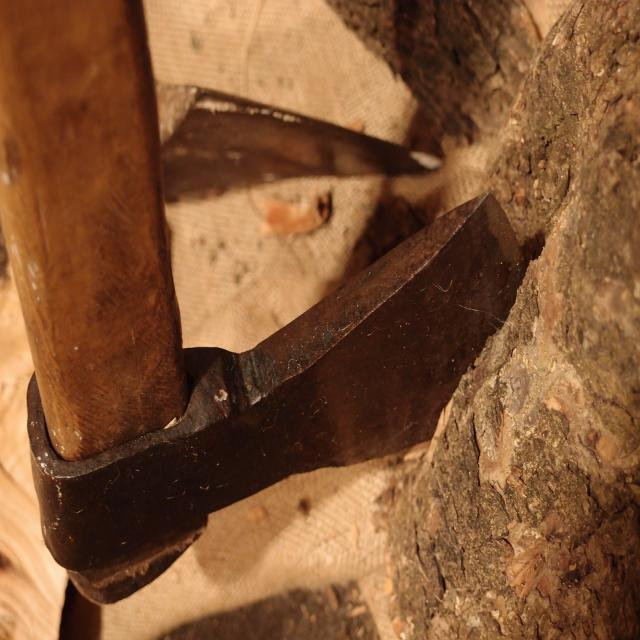Axe: (0, 0, 519, 602)
